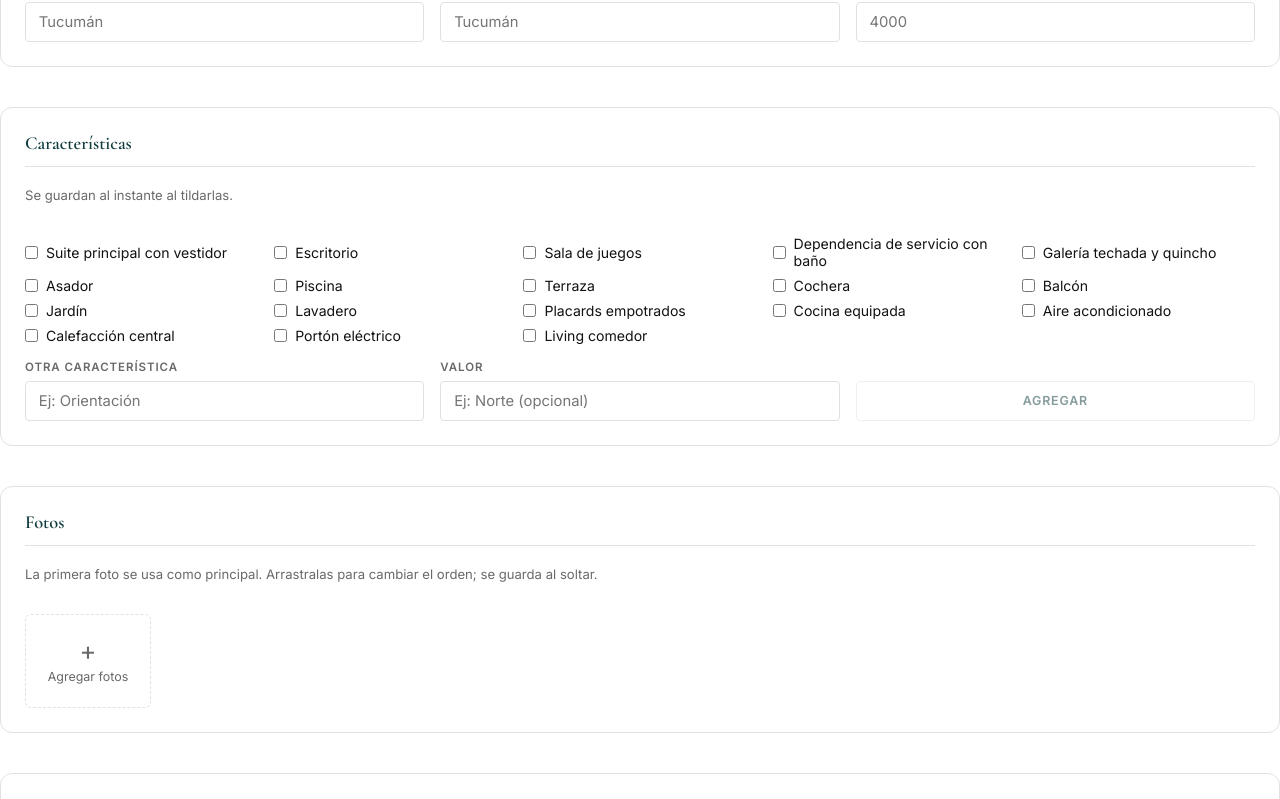
it: agrega y quita una característica libre
(page scrolled)
Type "Orientación" into the field labelled "Otra característica". click: (225, 401)
box: x1=25 y1=381 x2=424 y2=421
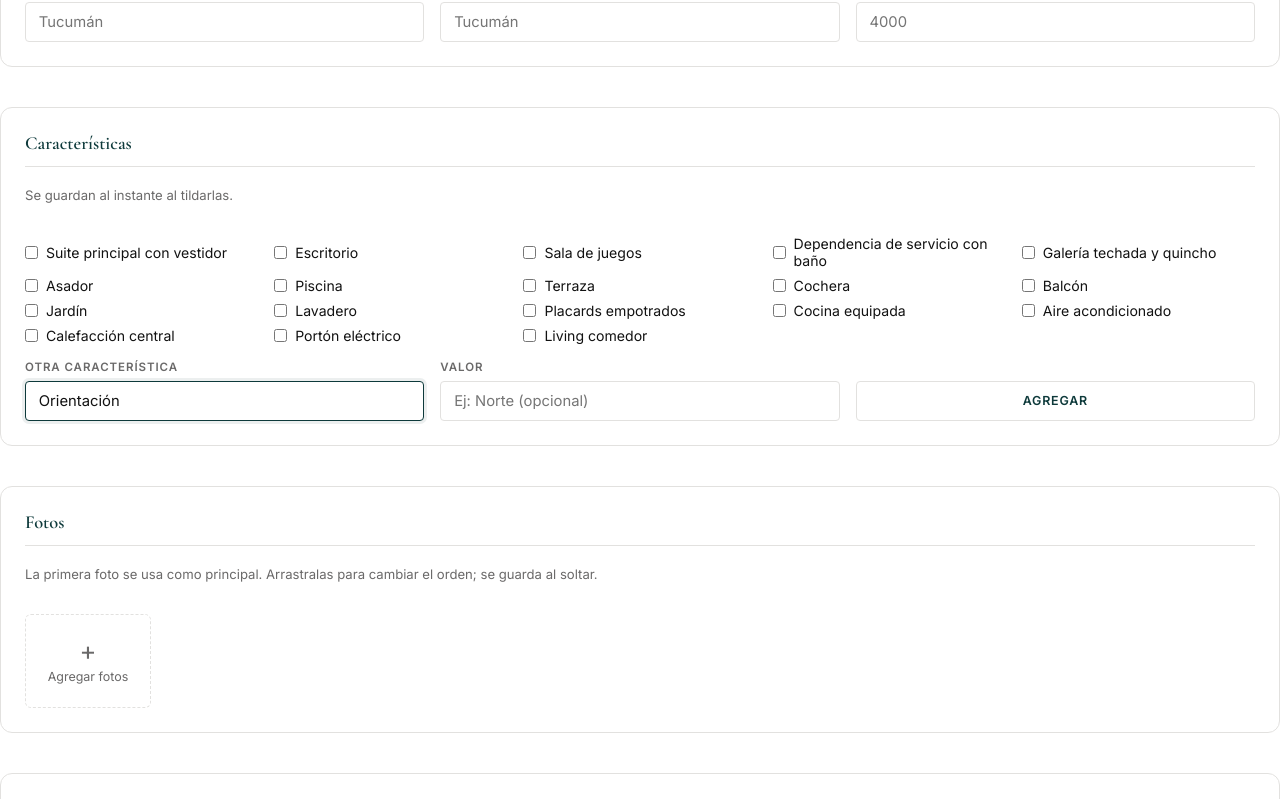
Type "Norte" into the field labelled "Valor". click: (640, 401)
box: x1=440 y1=381 x2=840 y2=421
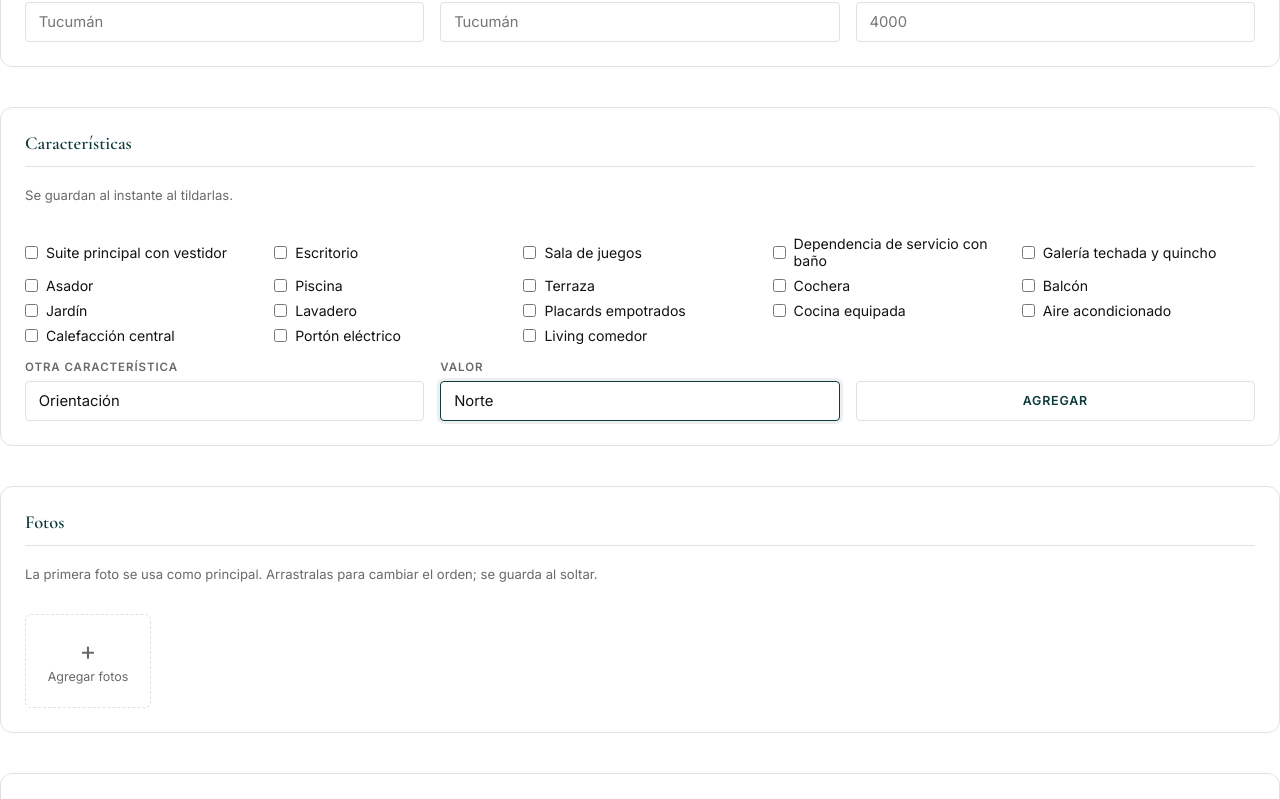
Click the button "Agregar". click: (1055, 401)
box: x1=856 y1=381 x2=1255 y2=421
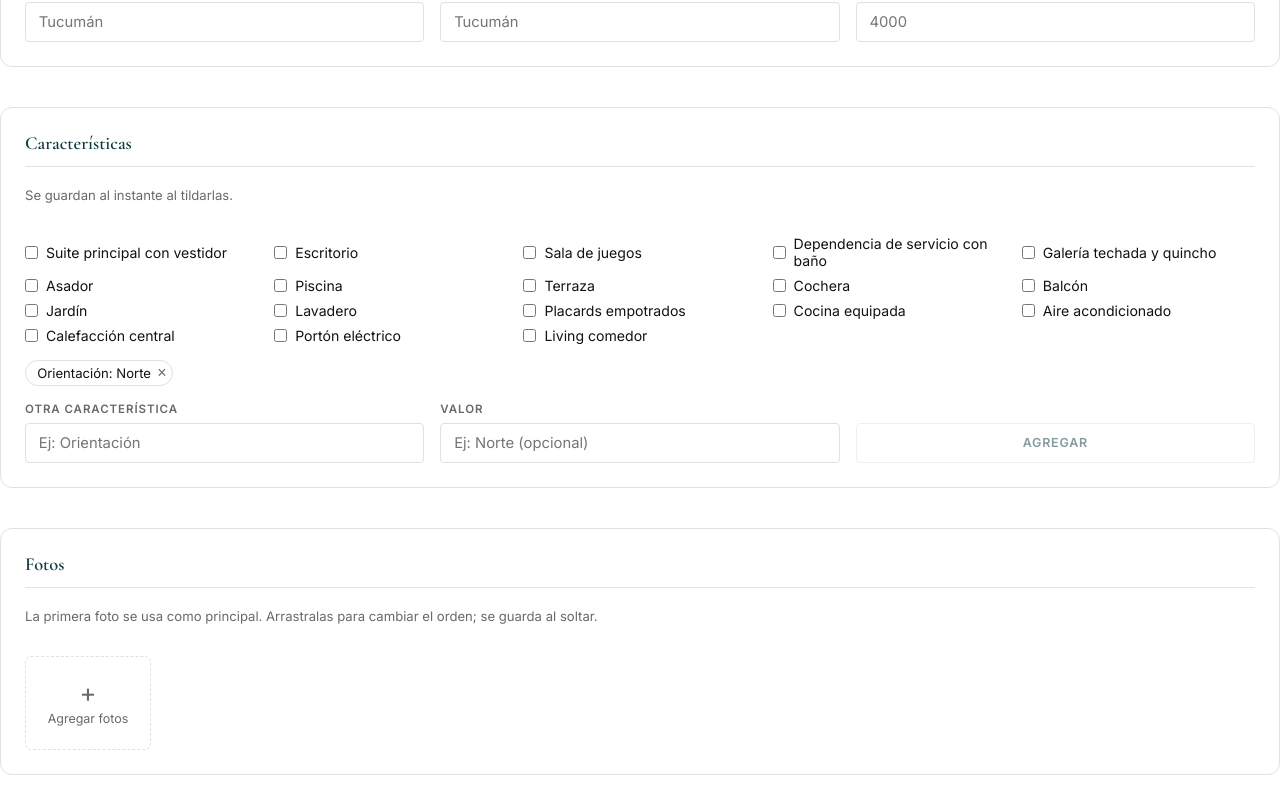
Check: the text "Orientación: Norte" is shown, box x1=37 y1=365 x2=151 y2=381
Click the button named "Quitar Orientación". click: (162, 373)
box: x1=157 y1=365 x2=167 y2=381
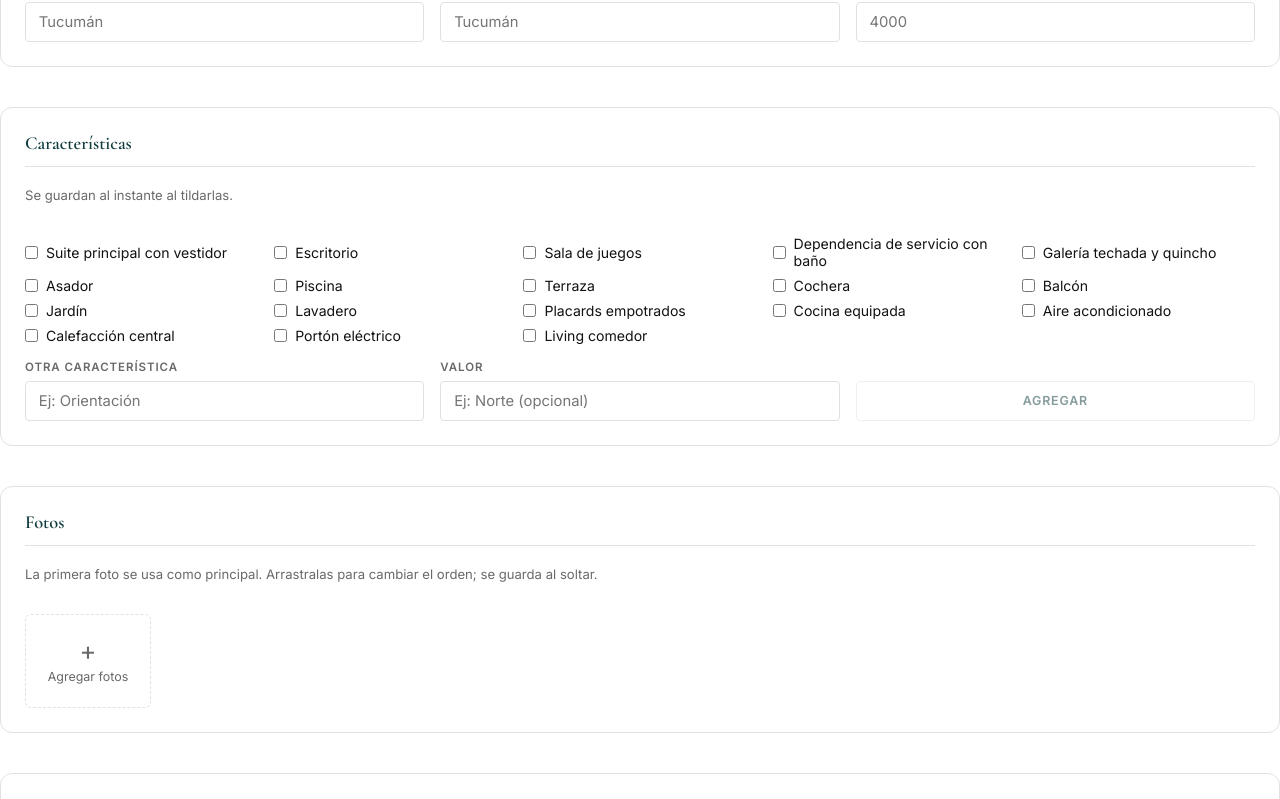
Check: the text "Orientación: Norte" is gone
